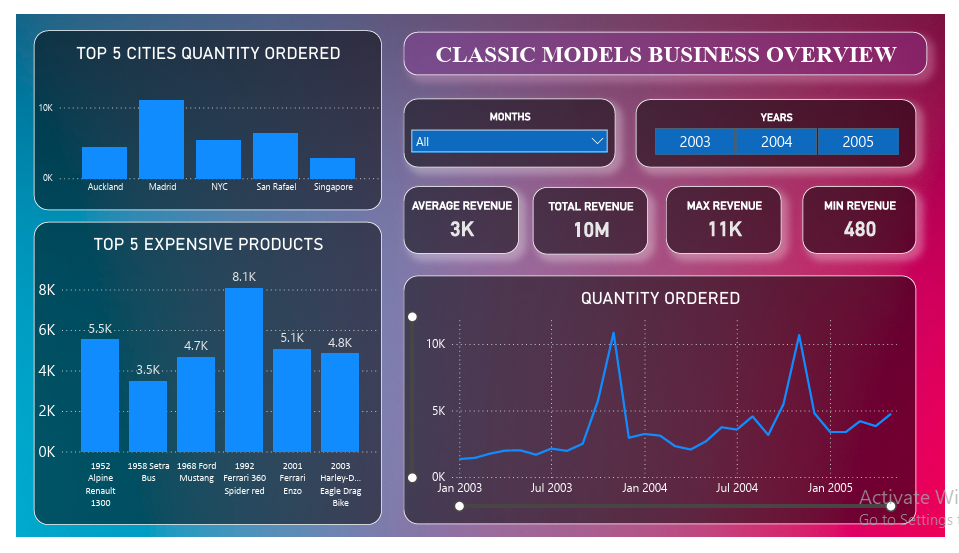

What the dashboard file says about the page in this screenshot:
{"tool":"powerbi","page":{"name":"Page 2","canvas":[1280,720],"ordinal":1},"visuals":[{"type":"textbox","box":[534.2,23.5,722.3,60.5],"z":0},{"type":"card","title":"AVERAGE REVENUE","fields":{"Values":["classicmodels orderdetails.avg_revenue"]},"box":[534.3,236.7,158.9,93],"z":1000},{"type":"card","title":"MIN REVENUE","fields":{"Values":["classicmodels orderdetails.min_revenue"]},"box":[1083.9,236.7,157.3,93],"z":2000},{"type":"card","title":"MAX REVENUE","fields":{"Values":["classicmodels orderdetails.max_revenue"]},"box":[896.2,236.7,158.9,93],"z":3000},{"type":"card","title":"TOTAL REVENUE","fields":{"Values":["classicmodels orderdetails.total_revenue"]},"box":[711.9,238.4,158.9,93],"z":4000},{"type":"slicer","title":"YEARS","fields":{"Values":["classicmodels orders.orderDate.Variation.Date Hierarchy.Year"]},"box":[853.9,116.7,387.2,94.7],"z":5000},{"type":"slicer","title":"MONTHS","fields":{"Values":["classicmodels orders.orderDate.Variation.Date Hierarchy.Month"]},"box":[534.3,116.2,292,95],"z":6000},{"type":"clusteredColumnChart","title":"TOP 5 CITIES QUANTITY ORDERED","fields":{"Y":["Sum(classicmodels orderdetails.quantityOrdered)"],"Category":["classicmodels customers.city"]},"box":[23.5,21.8,480.4,248.6],"z":7000},{"type":"clusteredColumnChart","title":"TOP 5 EXPENSIVE PRODUCTS","fields":{"Category":["classicmodels products.productName"],"Y":["Sum(classicmodels orderdetails.priceEach)"]},"box":[23.5,285.6,480.4,418.3],"z":8000},{"type":"lineChart","title":"QUANTITY ORDERED","fields":{"Y":["Sum(classicmodels orderdetails.quantityOrdered)"],"Category":["classicmodels orders.orderDate.Variation.Date Hierarchy.Year","classicmodels orders.orderDate.Variation.Date Hierarchy.Month"]},"box":[541.4,360,707.2,343],"z":9000}]}

Visuals, with their boxes in screenshot pixels (x1, y1, x2, y2):
textbox: 402:13:955:59
"AVERAGE REVENUE" card: 402:176:524:248
"MIN REVENUE" card: 823:176:943:248
"MAX REVENUE" card: 679:176:801:248
"TOTAL REVENUE" card: 538:178:660:249
"YEARS" slicer: 647:84:943:157
"MONTHS" slicer: 402:84:625:157
"TOP 5 CITIES QUANTITY ORDERED" clusteredColumnChart: 11:12:379:202
"TOP 5 EXPENSIVE PRODUCTS" clusteredColumnChart: 11:214:379:534
"QUANTITY ORDERED" lineChart: 407:271:949:534
